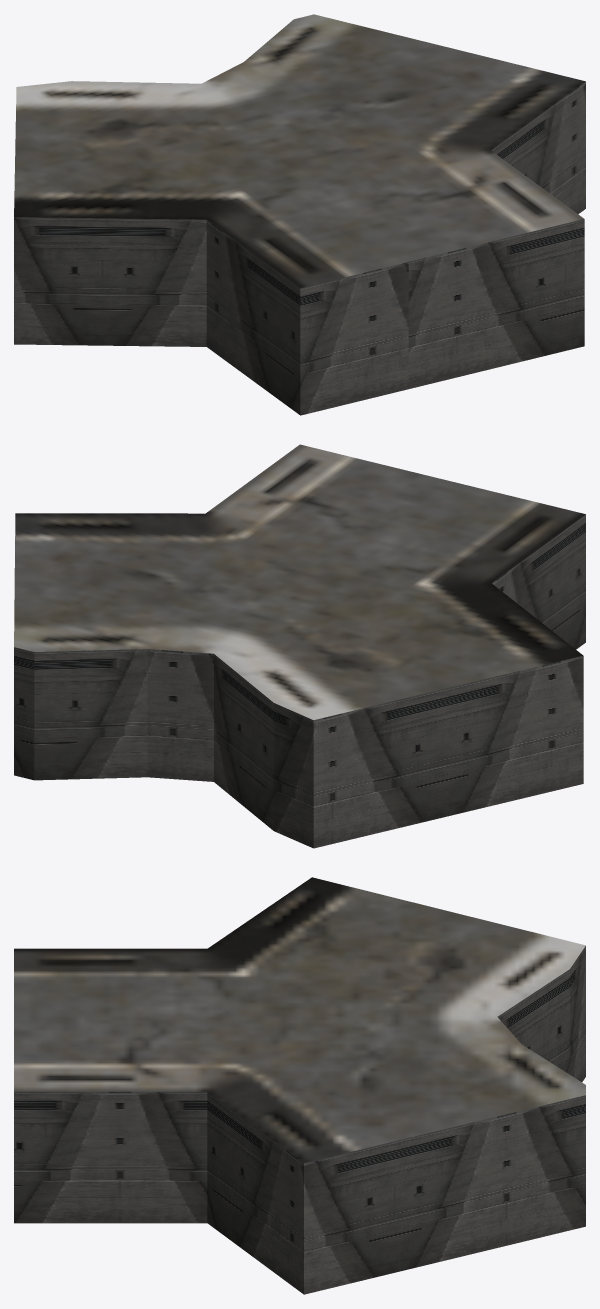
File: fortress_light_42.glb
The picture shows the model from 3 angles, top to bottom: view 1: azimuth 30°, elevation 25°; view 2: azimuth 150°, elevation 25°; view 3: azimuth 270°, elevation 25°; orthographic projection. The views are drawn at different scales.
Parts seen in each view (by area): view 1: buildings/saxarba/fortress_light/fortress_light_42; view 2: buildings/saxarba/fortress_light/fortress_light_42; view 3: buildings/saxarba/fortress_light/fortress_light_42.
Boxes of the visible parts, x1,y1,x2,y2 form: buildings/saxarba/fortress_light/fortress_light_42: [14, 14, 585, 415]; buildings/saxarba/fortress_light/fortress_light_42: [14, 444, 585, 848]; buildings/saxarba/fortress_light/fortress_light_42: [14, 877, 585, 1294].
Bounding box in the file's own units: 84 × 18 × 71.
